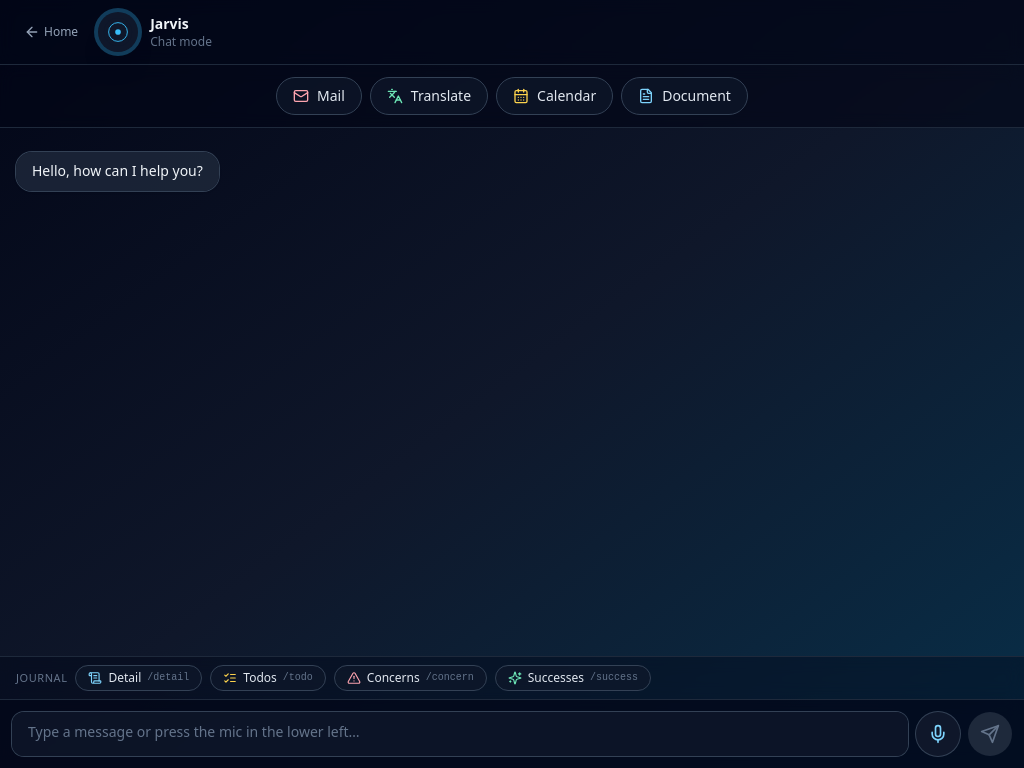
ChatScreen › appends user message + assistant reply on successful send
Type "Selam" into the text box with test id "chat-input". click: x=460, y=734
box: 12,712 -> 908,756
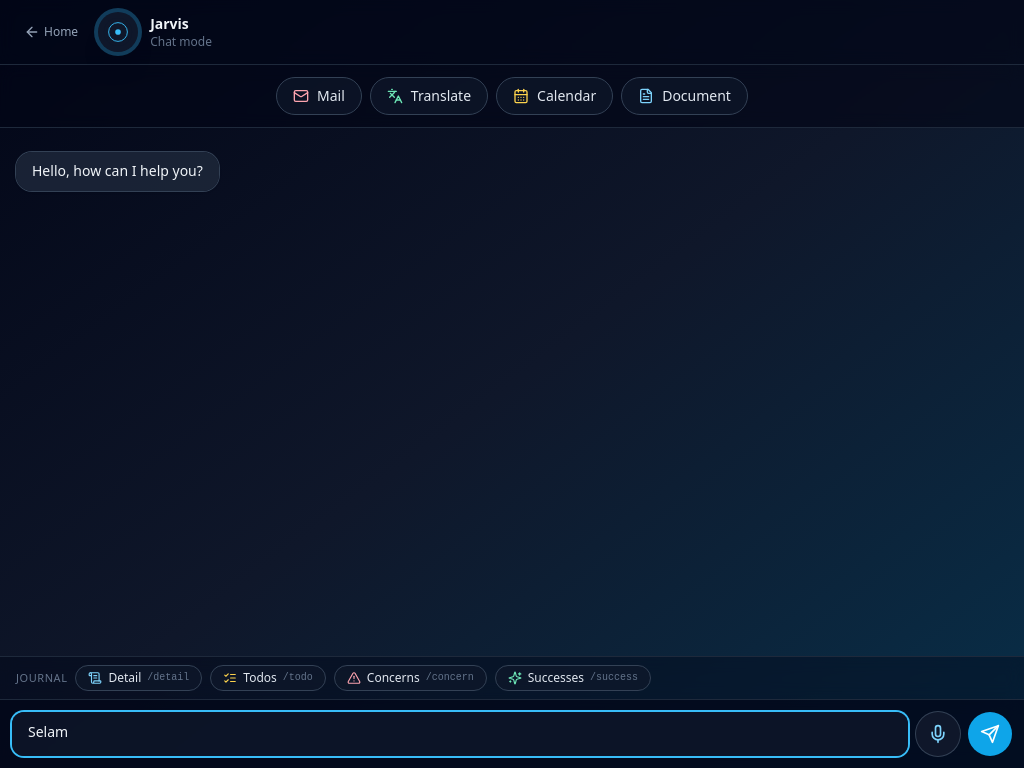
Click the button with test id "send-button". click: x=990, y=734
box: 968,712 -> 1012,756
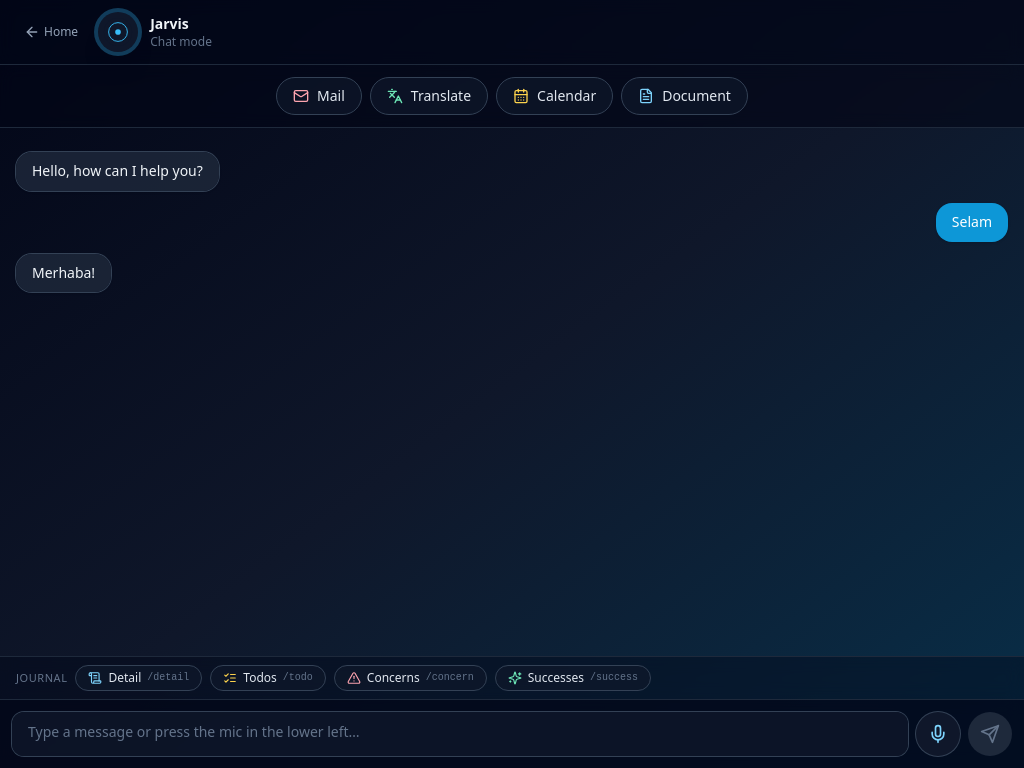
Check: the text "Selam" is shown, box 936,203 -> 1008,242
Check: the text "Merhaba!" is shown, box 32,262 -> 95,284
